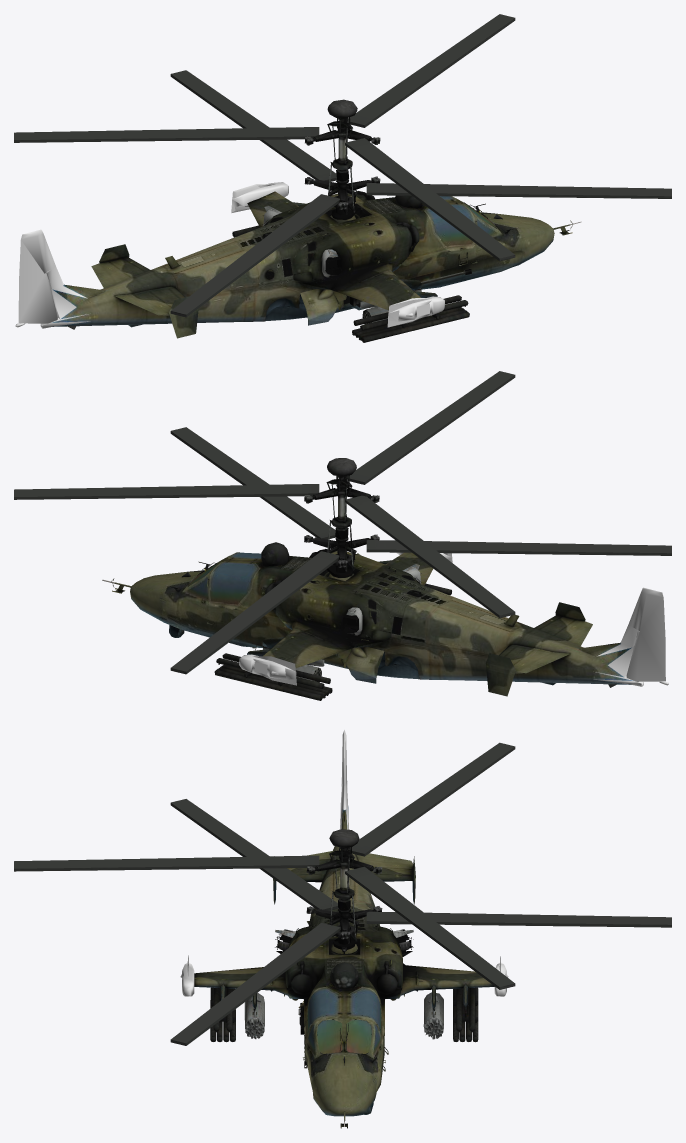
3 renders of one model, top to bottom at view 1: azimuth 30°, elevation 25°; view 2: azimuth 150°, elevation 25°; view 3: azimuth 270°, elevation 25°, orthographic.
Visible parts, largest first — view 1: g_ka52_hull, g_ka52_rotor2, g_ka52_rotor; view 2: g_ka52_hull, g_ka52_rotor2, g_ka52_rotor; view 3: g_ka52_hull, g_ka52_rotor2, g_ka52_rotor.
Boxes of the visible parts, left/top/right/bottom form: g_ka52_hull: left=15, top=99, right=581, bottom=342; g_ka52_rotor2: left=14, top=14, right=515, bottom=261; g_ka52_rotor: left=170, top=70, right=671, bottom=317; g_ka52_hull: left=102, top=458, right=668, bottom=700; g_ka52_rotor2: left=14, top=371, right=515, bottom=618; g_ka52_rotor: left=170, top=427, right=671, bottom=674; g_ka52_hull: left=180, top=729, right=508, bottom=1128; g_ka52_rotor2: left=14, top=742, right=515, bottom=989; g_ka52_rotor: left=170, top=799, right=671, bottom=1045.
Bounding box in the file's own units: 14.26 × 4.85 × 14.08.
4 materials, 3 textured.
